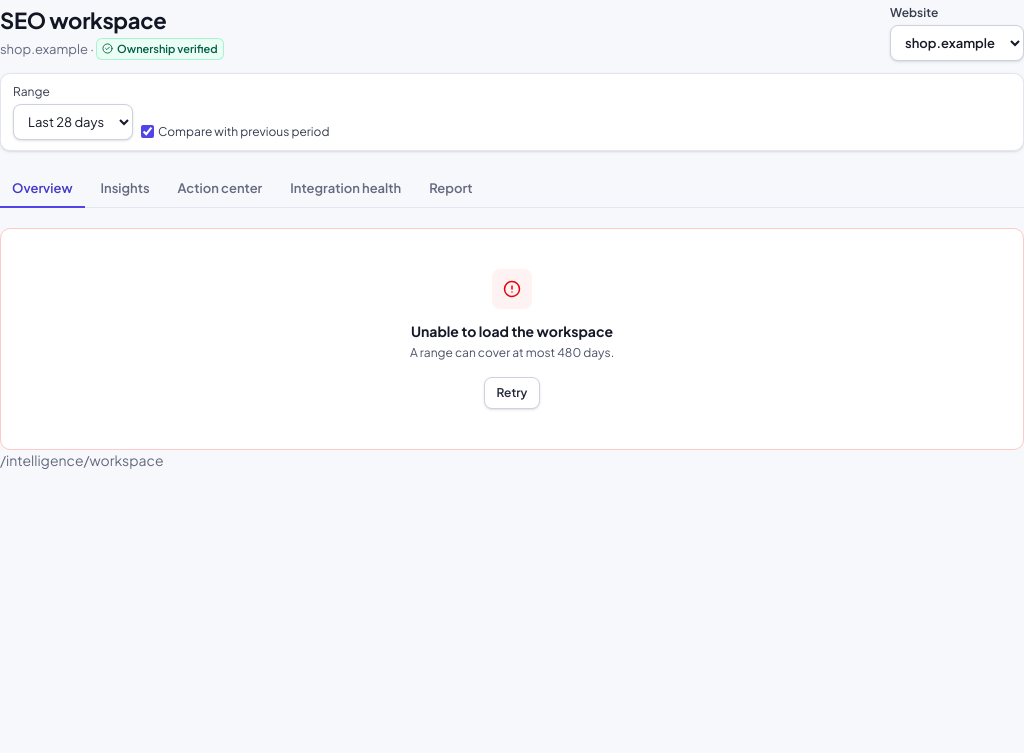
Test case: Workspace overview › shows the server's error for an invalid range with retry
The image size is (1024, 753).
Expected: the text "A range can cover at most 480 days." is shown, [410,345,614,361]
Click the button "Retry".
click(512, 393)  # box [484,377,540,409]
(page scrolled)
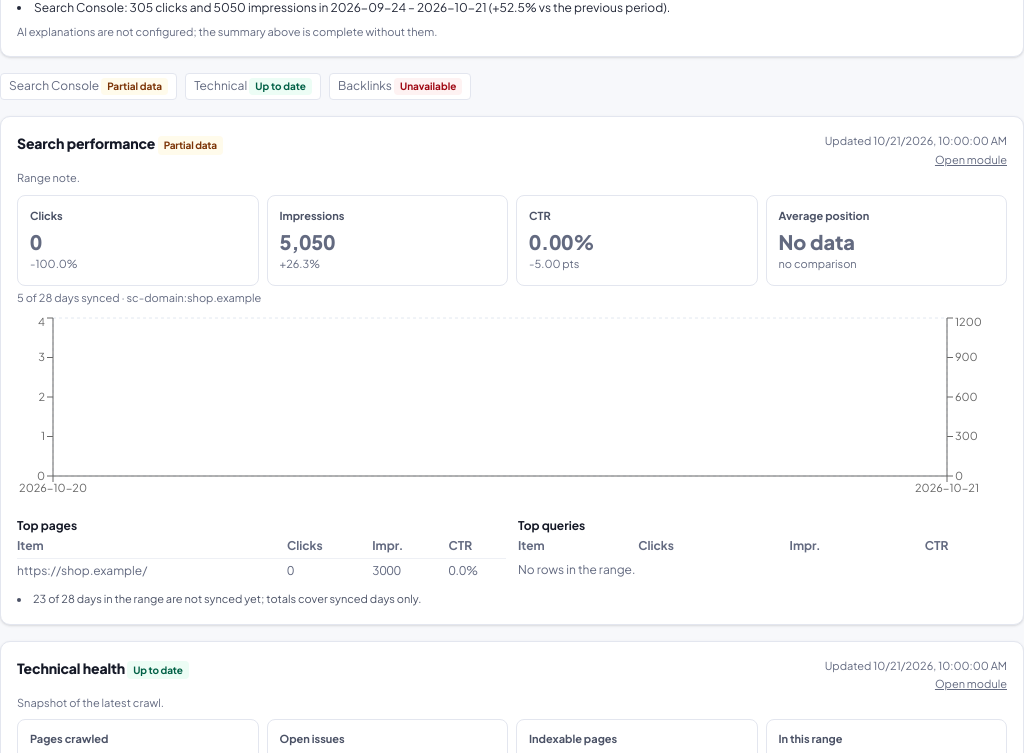
Now the element "Search performance" is shown
